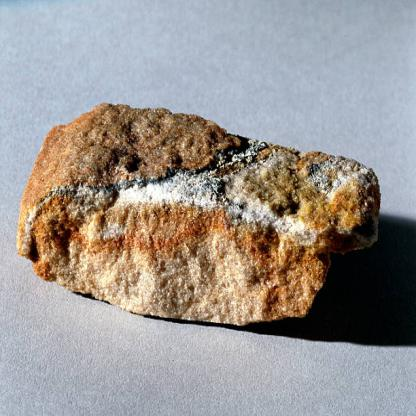Sedimentary_Sandstone: (20, 93, 384, 332)
